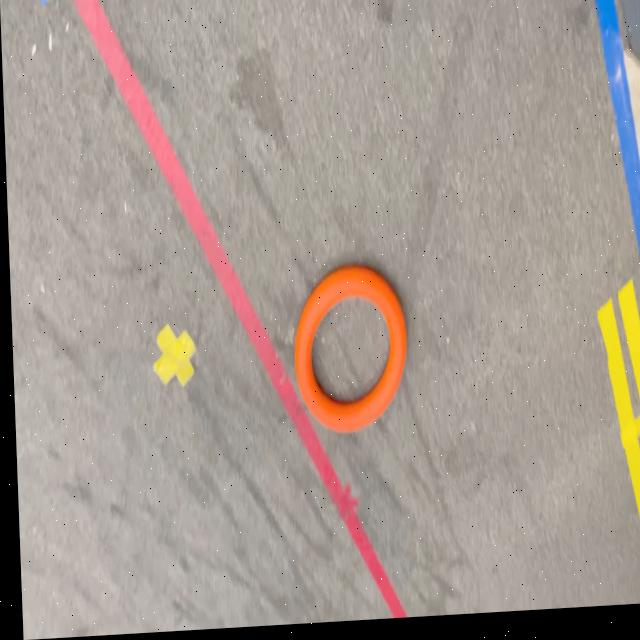note: (288, 265, 407, 440)
